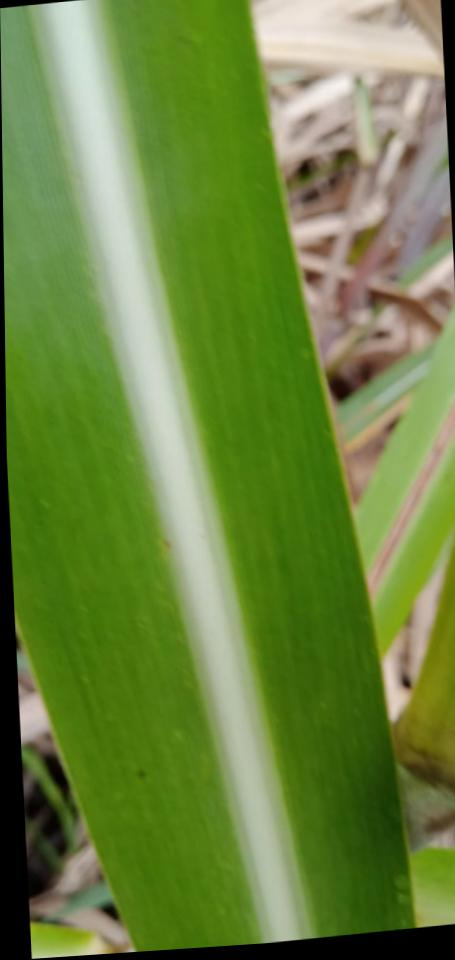Healthy: (0, 0, 412, 952)
